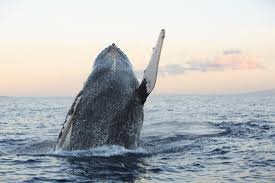humpback: (72, 42, 146, 149)
